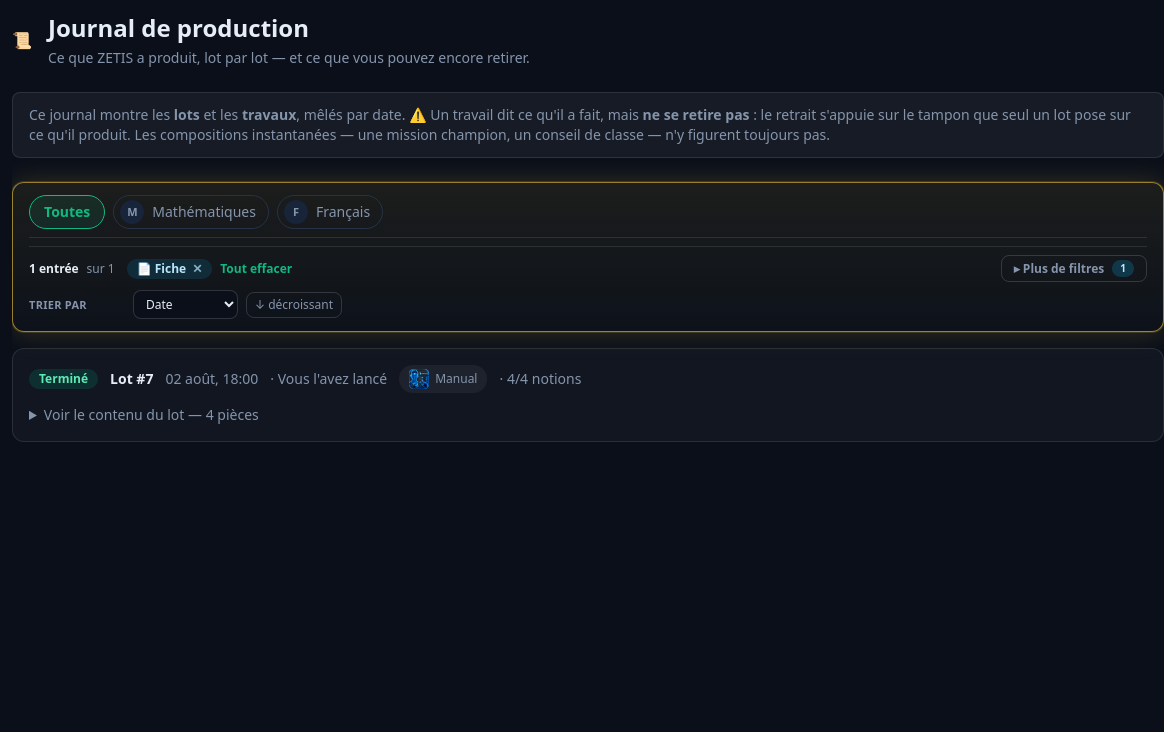
Test case: Journal — le filtre › 🔒 garde le lot ENTIER : filtrer sur Fiche n'enlève ni le cours ni le quiz
This screenshot has width=1164, height=732.
Expected: the text "Lot #7" is shown, top-left (110, 369), bottom-right (154, 389)
Click the heading "Voir le contenu du lot — 4 pièces". click: (151, 415)
box: top-left (44, 405), bottom-right (259, 424)
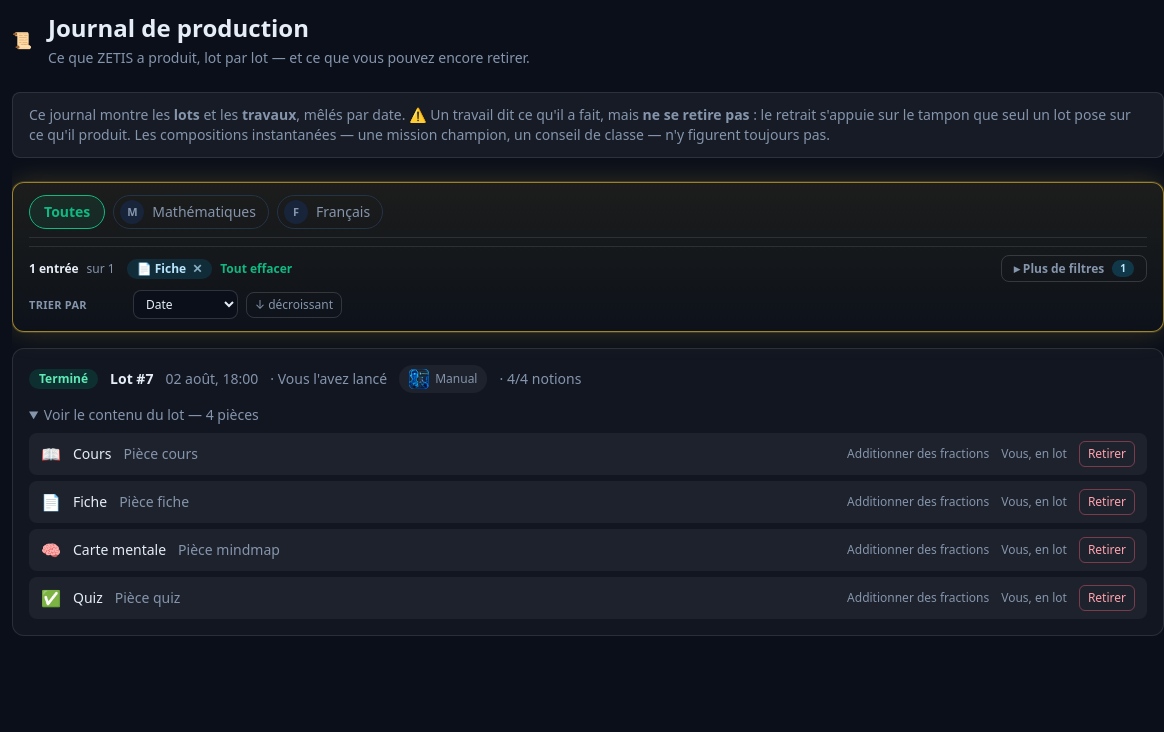
Expected: the text "Pièce cours" is shown, top-left (123, 444), bottom-right (198, 463)
Expected: the text "Pièce fiche" is shown, top-left (119, 492), bottom-right (189, 511)
Expected: the text "Pièce mindmap" is shown, top-left (178, 540), bottom-right (280, 559)
